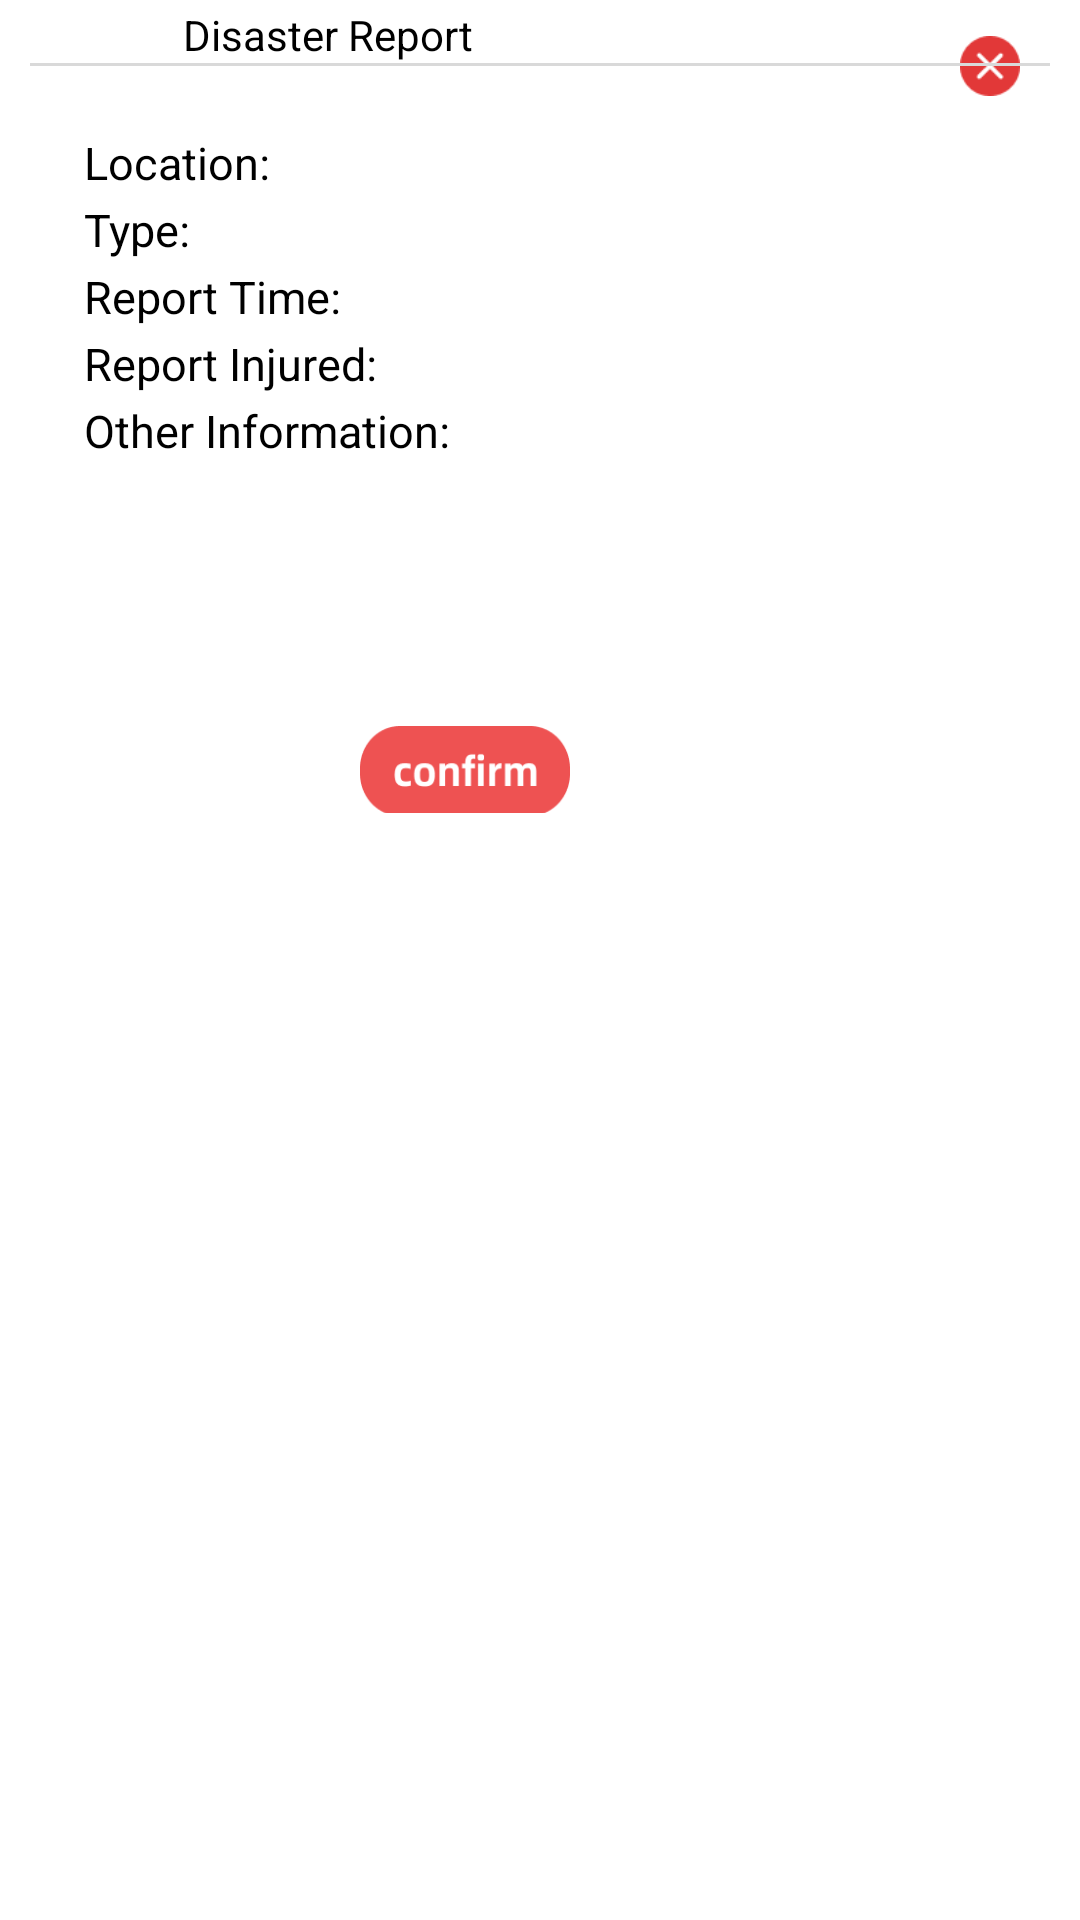

Point at icon controls on the screen. Image size 1080 x 1920, points as [x,y].
closebutton: [990,66]
